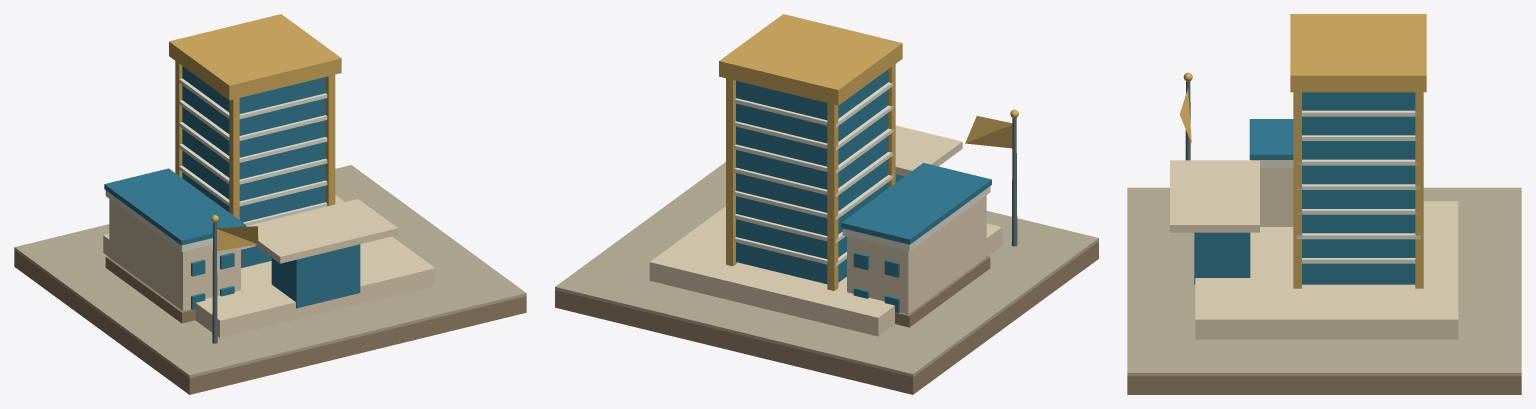
File: club-headquarters-lv2.glb
3 renders of one model, left to right at view 1: azimuth 30°, elevation 25°; view 2: azimuth 150°, elevation 25°; view 3: azimuth 270°, elevation 25°, orthographic. The views are drawn at different scales.
Visible parts, largest first — view 1: foundation_paving, office_tower_glass, tower_crown_gold, headquarters_plinth_cream, foundation_stoneDark, office_wing_cream, entrance_canopy_cream, office_wing_roof_glass, floor_bands_white, entrance_lobby_glass, tower_mullions_gold, office_wing_stoneDark (+4 smaller); view 2: foundation_paving, office_tower_glass, headquarters_plinth_cream, tower_crown_gold, foundation_stoneDark, office_wing_cream, office_wing_roof_glass, floor_bands_white, tower_mullions_gold, entrance_canopy_cream, office_wing_stoneDark, flags_gold (+3 smaller); view 3: foundation_paving, headquarters_plinth_cream, office_tower_glass, tower_crown_gold, foundation_stoneDark, entrance_canopy_cream, floor_bands_white, tower_mullions_gold, entrance_lobby_glass, office_wing_cream, office_wing_roof_glass, flags_gold.
Part boxes in pixels (x1,y1,x2,y2): foundation_paving: [14, 165, 526, 378]; office_tower_glass: [182, 66, 325, 268]; tower_crown_gold: [169, 14, 341, 100]; headquarters_plinth_cream: [103, 195, 435, 338]; foundation_stoneDark: [14, 250, 526, 394]; office_wing_cream: [109, 199, 240, 310]; entrance_canopy_cream: [246, 199, 397, 263]; office_wing_roof_glass: [104, 168, 245, 245]; floor_bands_white: [179, 78, 327, 249]; entrance_lobby_glass: [271, 244, 360, 308]; tower_mullions_gold: [175, 61, 335, 219]; office_wing_stoneDark: [105, 256, 195, 323]; foundation_paving: [555, 162, 1098, 377]; office_tower_glass: [736, 69, 888, 283]; headquarters_plinth_cream: [649, 206, 1002, 336]; tower_crown_gold: [719, 14, 902, 105]; foundation_stoneDark: [555, 241, 1098, 394]; office_wing_cream: [847, 195, 986, 314]; office_wing_roof_glass: [841, 163, 991, 244]; floor_bands_white: [734, 82, 893, 266]; tower_mullions_gold: [726, 64, 895, 290]; entrance_canopy_cream: [895, 125, 962, 176]; office_wing_stoneDark: [895, 256, 990, 327]; flags_gold: [965, 109, 1018, 148]; foundation_paving: [1127, 187, 1521, 376]; headquarters_plinth_cream: [1195, 201, 1458, 339]; office_tower_glass: [1302, 92, 1415, 284]; tower_crown_gold: [1290, 14, 1426, 92]; foundation_stoneDark: [1127, 376, 1521, 394]; entrance_canopy_cream: [1170, 160, 1259, 232]; floor_bands_white: [1296, 110, 1420, 263]; tower_mullions_gold: [1293, 92, 1423, 288]; entrance_lobby_glass: [1194, 232, 1250, 284]; office_wing_cream: [1260, 167, 1293, 226]; office_wing_roof_glass: [1249, 119, 1293, 159]; flags_gold: [1179, 72, 1192, 142].
Bounding box in the file's own units: 1 × 0.6486 × 0.9.
